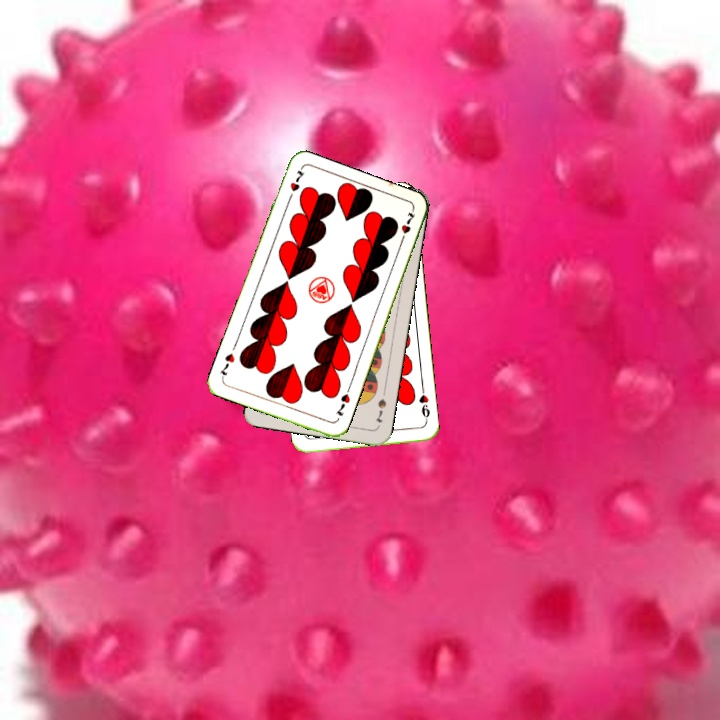H7: (284, 165, 307, 204), (332, 390, 353, 418)
H9: (415, 384, 432, 425)
S7: (371, 394, 389, 425)
